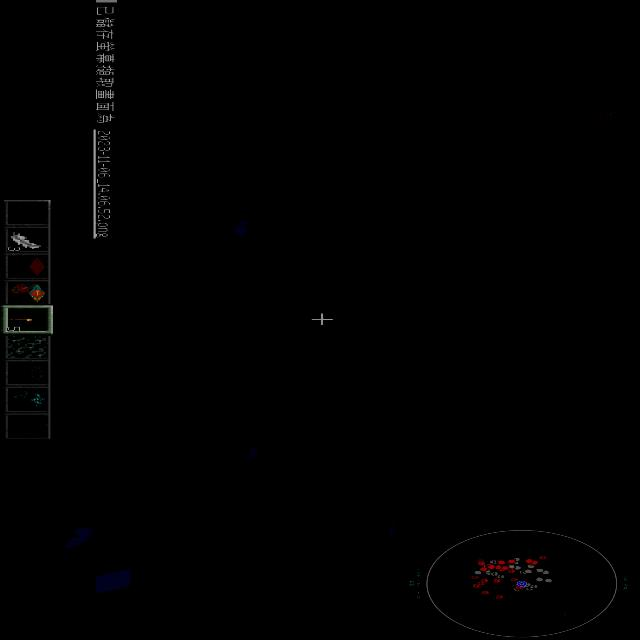Skeleton: (248, 463, 322, 493)
Zombie: (588, 256, 610, 264)
chicken: (38, 520, 102, 552), (213, 215, 250, 242), (230, 442, 264, 462), (368, 520, 406, 536)
cow: (166, 69, 280, 148), (413, 38, 474, 92), (381, 219, 429, 251), (376, 161, 434, 187), (539, 190, 575, 212), (566, 205, 586, 212), (574, 196, 586, 206)
